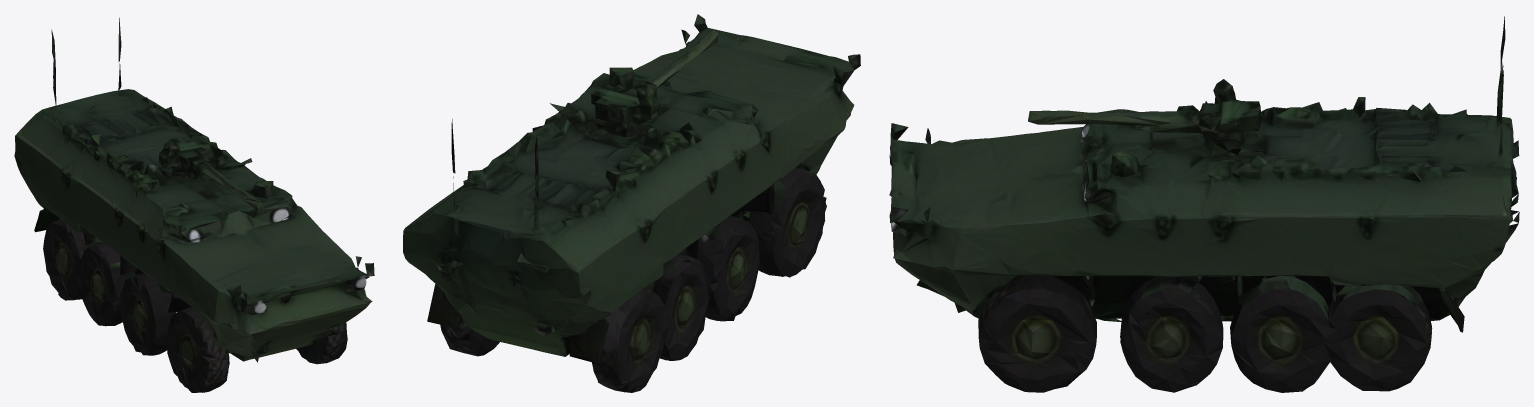
The model's file is veh_btr82a.glb.
The picture shows the model from 3 angles, left to right: view 1: azimuth 30°, elevation 25°; view 2: azimuth 150°, elevation 25°; view 3: azimuth 270°, elevation 25°; orthographic projection. The views are drawn at different scales.
Visible parts, largest first — view 1: veh_btr82a_tex; view 2: veh_btr82a_tex; view 3: veh_btr82a_tex.
Part boxes in pixels (box(x1,y1,x2,y2)): veh_btr82a_tex: box(14, 17, 374, 392); veh_btr82a_tex: box(403, 14, 860, 392); veh_btr82a_tex: box(889, 16, 1519, 392).
Size of the model in its own units: 2.82 by 4.15 by 7.6.
Materials: 1 (1 with a texture image).
